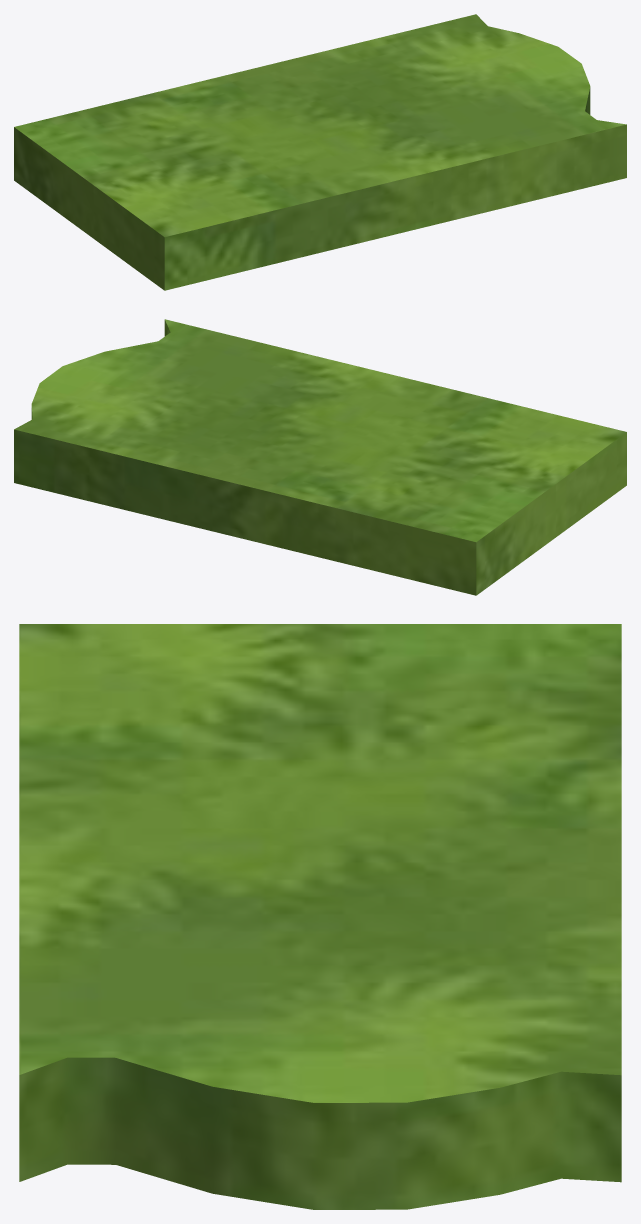
File: Platforrmm102.fbx
The picture shows the model from 3 angles, top to bottom: view 1: azimuth 30°, elevation 25°; view 2: azimuth 150°, elevation 25°; view 3: azimuth 270°, elevation 25°; orthographic projection. The views are drawn at different scales.
Parts seen in each view (by area): view 1: Cube__3_; view 2: Cube__3_; view 3: Cube__3_.
Boxes of the visible parts, x1=… form: Cube__3_: x1=14, y1=14, x2=626, y2=290; Cube__3_: x1=14, y1=319, x2=626, y2=595; Cube__3_: x1=19, y1=624, x2=621, y2=1209.
Size of the model in its own units: 3749 by 391 by 1994.
